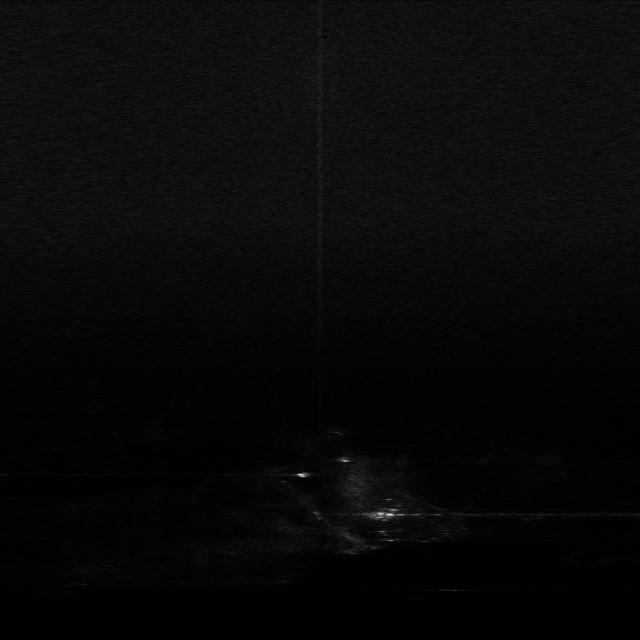rov: (368, 504, 408, 525)
